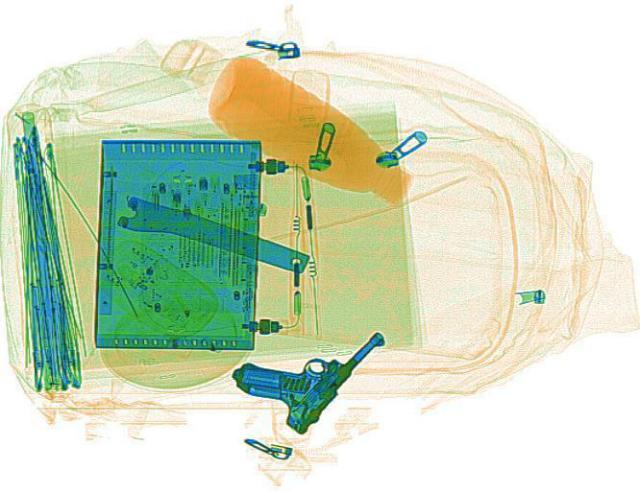Gun: (210, 295, 388, 434)
